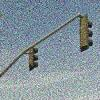traffic lights: (78, 13, 95, 52), (27, 45, 40, 71)
